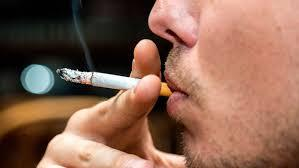smoke: (55, 67, 185, 102)
